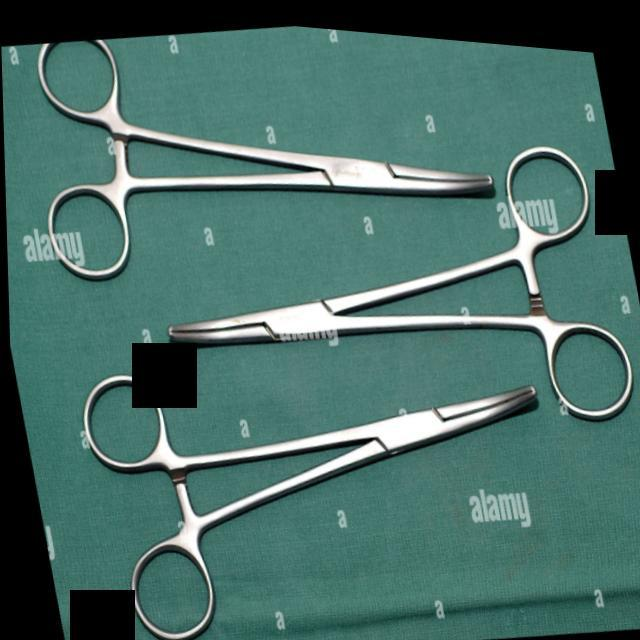Artery Forceps: (130, 85, 640, 476), (63, 294, 585, 640), (3, 1, 515, 323)
